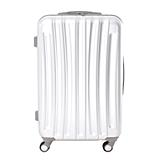luggage: (34, 9, 126, 153)
